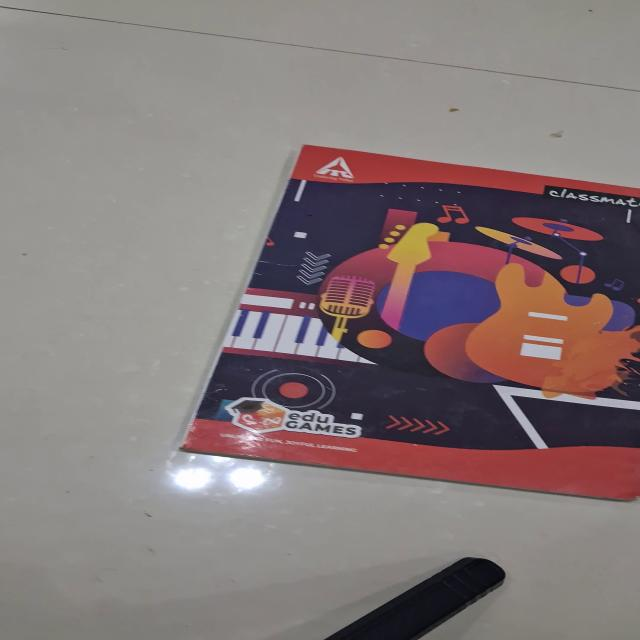paper: (177, 144, 639, 501)
